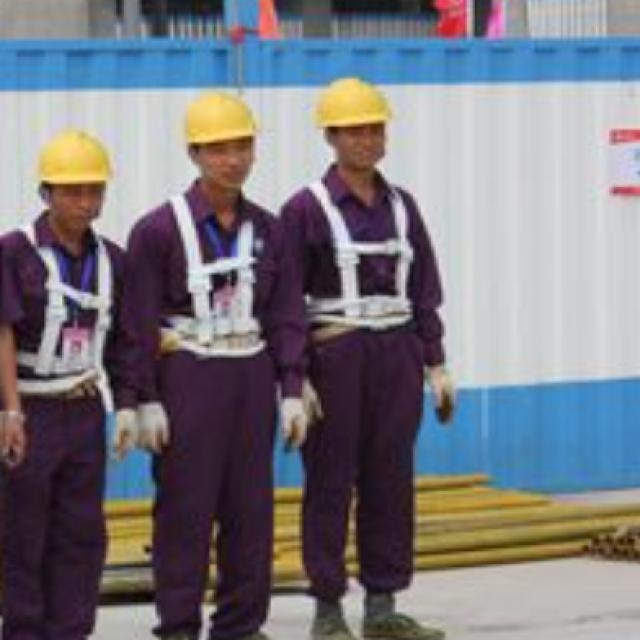Arnes_seguridad: (147, 188, 276, 364), (6, 217, 121, 404), (297, 171, 421, 332)
